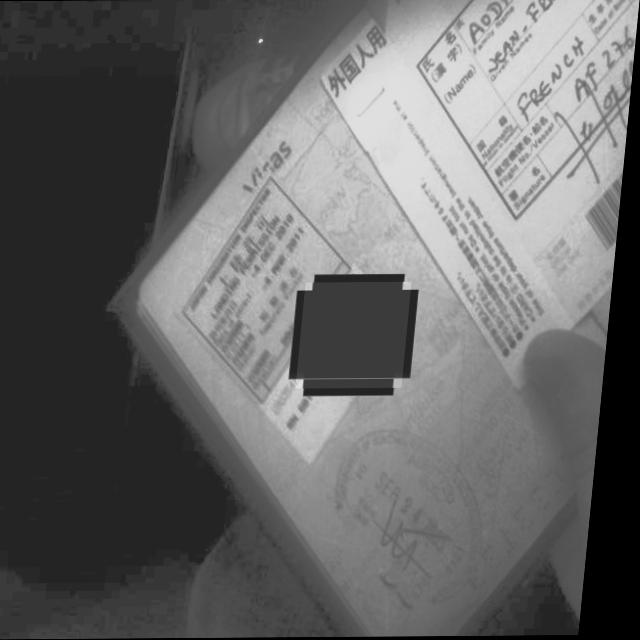qr_code: (304, 281, 418, 388)
